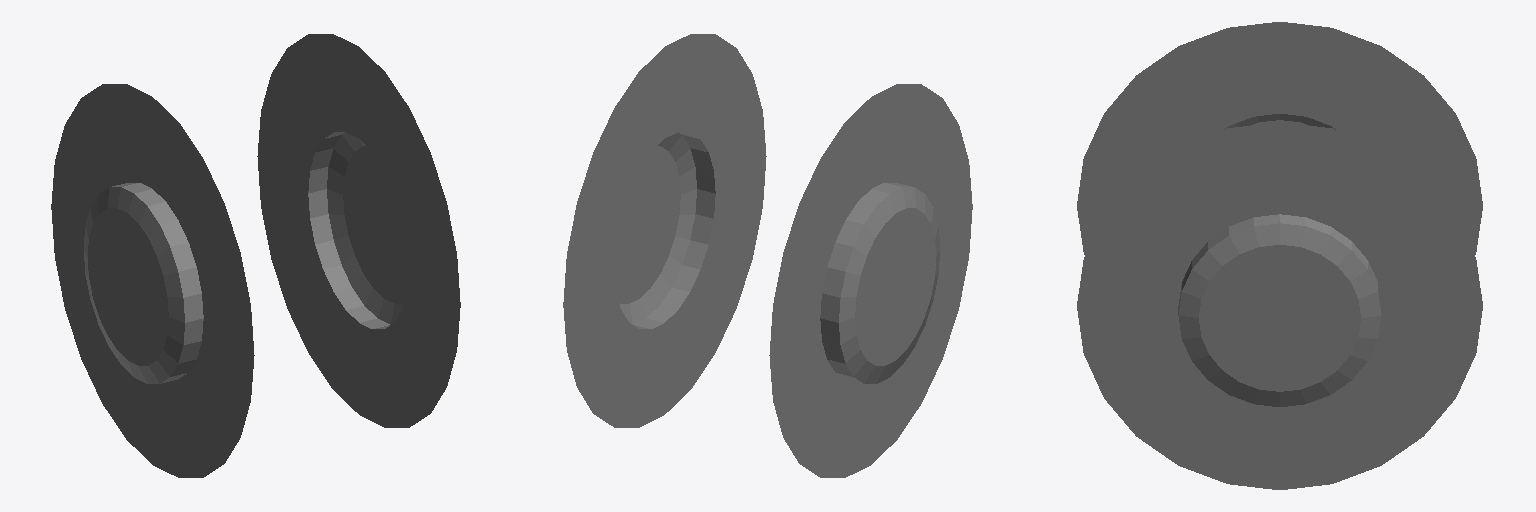
The model's file is WheelBL_Plate.obj.
3 views of the same model, side by side, from view 1: azimuth 30°, elevation 25°; view 2: azimuth 150°, elevation 25°; view 3: azimuth 270°, elevation 25° (orthographic).
Visible parts, largest first — view 1: WheelBL_Plate; view 2: WheelBL_Plate; view 3: WheelBL_Plate.
Part boxes in pixels (x1,y1,x2,y2): WheelBL_Plate: (51, 34, 460, 477); WheelBL_Plate: (563, 34, 972, 477); WheelBL_Plate: (1077, 22, 1482, 489).
Bounding box in the file's own units: 1.39 × 1.92 × 1.92.